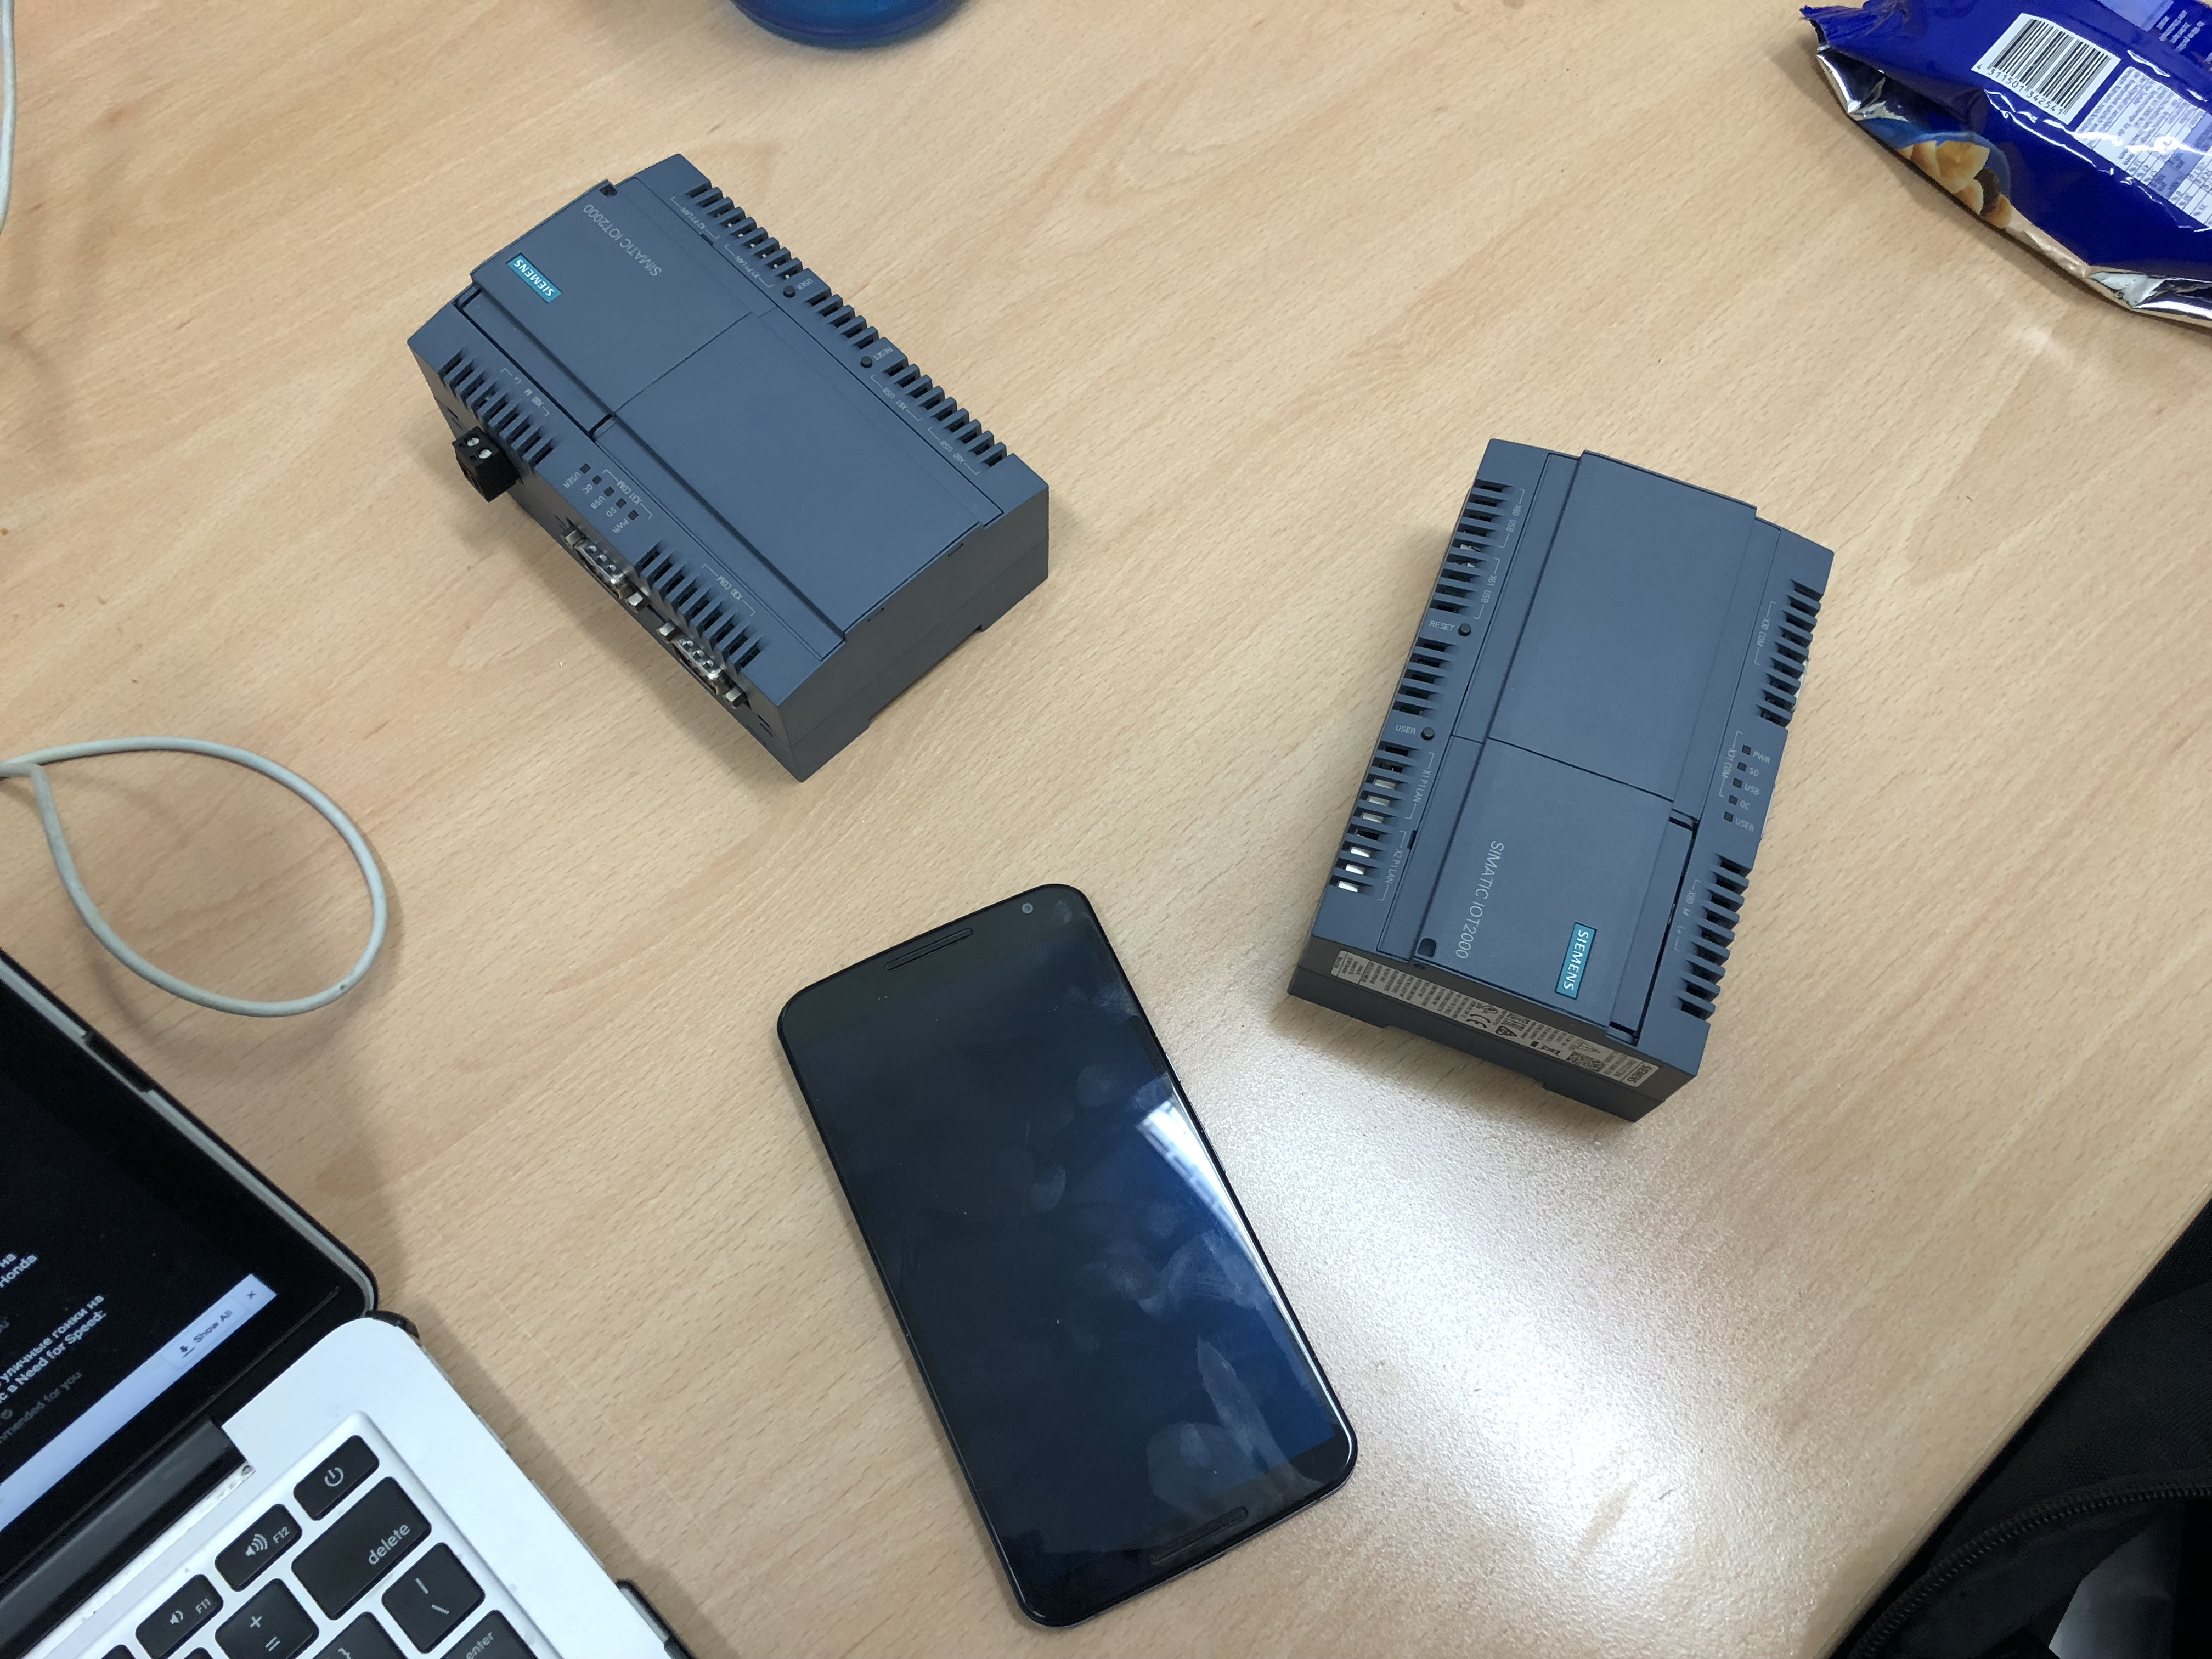device: (406, 153, 1050, 784), (1287, 439, 1836, 1124)
